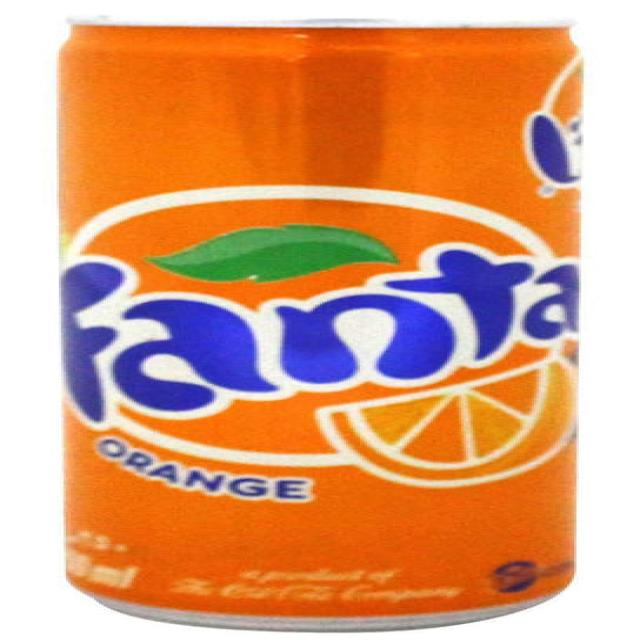fanta: (60, 16, 584, 630)
